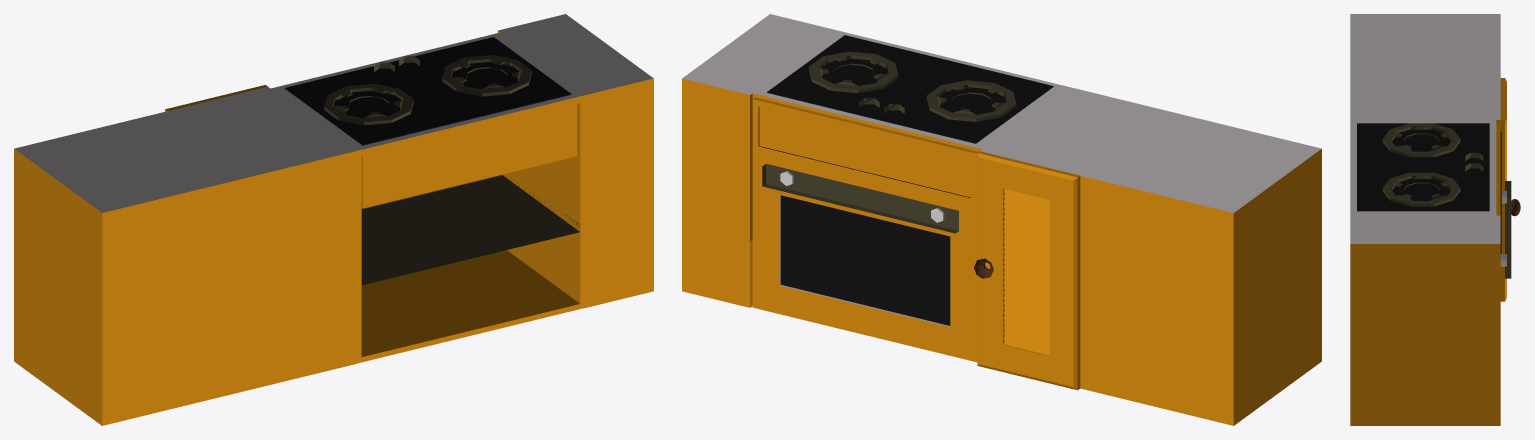
The model's file is Kitchen Cabinet 2.fbx.
3 renders of one model, left to right at view 1: azimuth 30°, elevation 25°; view 2: azimuth 150°, elevation 25°; view 3: azimuth 270°, elevation 25°, orthographic. The views are drawn at different scales.
Parts seen in each view (by area): view 1: Node 0; view 2: Node 0, Node 1, Node 2; view 3: Node 0, Node 1, Node 2.
Boxes of the visible parts, box(x1,y1,x2,y2) form: Node 0: box(14, 14, 653, 425); Node 0: box(682, 14, 1321, 425); Node 1: box(752, 97, 978, 362); Node 2: box(974, 151, 1080, 390); Node 0: box(1350, 14, 1500, 425); Node 1: box(1496, 124, 1511, 278); Node 2: box(1500, 78, 1520, 301).
Bounding box in the file's own units: 0.6793 × 0.8345 × 2.17.
